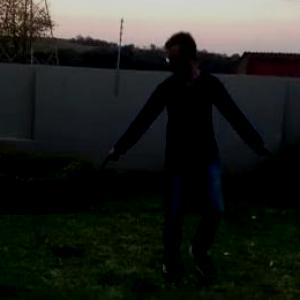land: (98, 37, 290, 286)
